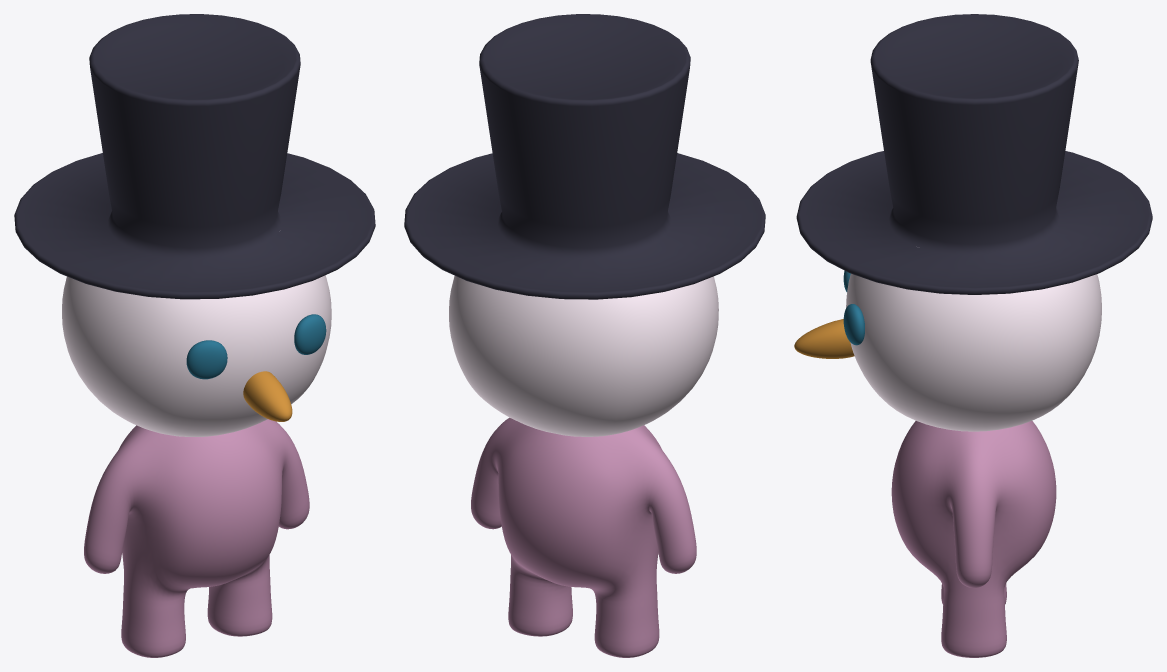
The model's file is with_hat_only_mesh.fbx.
The picture shows the model from 3 angles, left to right: view 1: azimuth 30°, elevation 25°; view 2: azimuth 150°, elevation 25°; view 3: azimuth 270°, elevation 25°; orthographic projection.
Parts seen in each view (by area): view 1: Char1; view 2: Char1; view 3: Char1.
Part boxes in pixels (x1,y1,x2,y2): Char1: (14, 14, 375, 657); Char1: (404, 14, 765, 657); Char1: (794, 14, 1152, 657).
Size of the model in its own units: 230 by 406 by 232.
